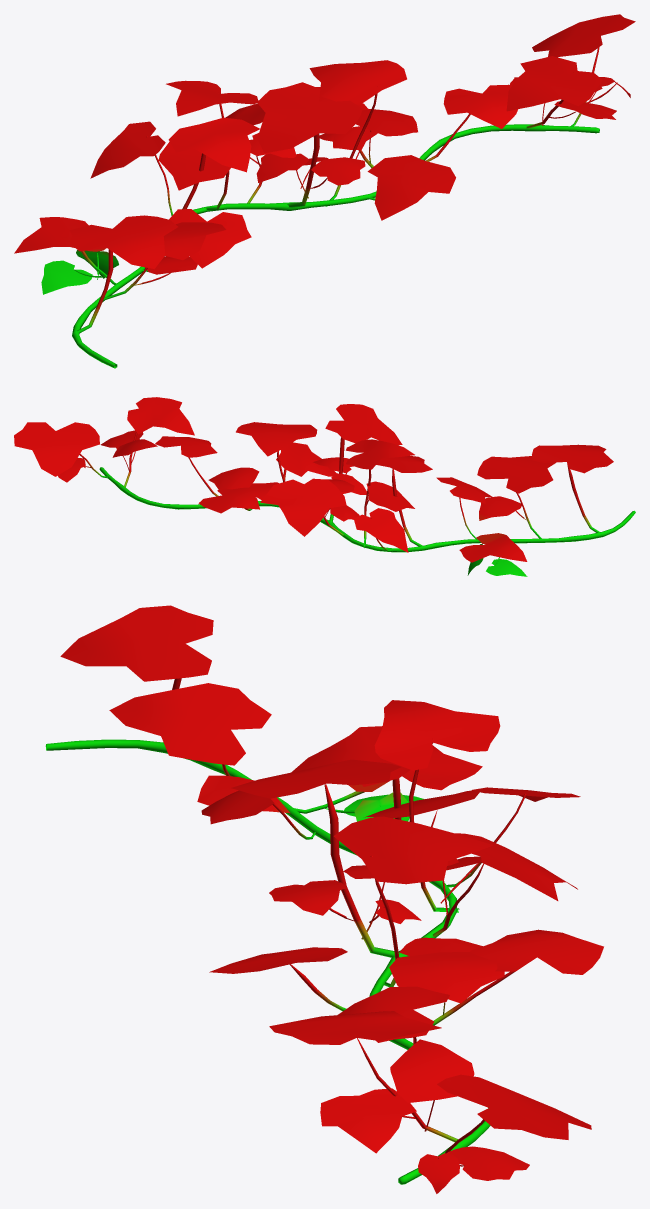
The model's file is Var5_LOD1.fbx.
The picture shows the model from 3 angles, top to bottom: view 1: azimuth 30°, elevation 25°; view 2: azimuth 150°, elevation 25°; view 3: azimuth 270°, elevation 25°; orthographic projection. The views are drawn at different scales.
Visible parts, largest first — view 1: _yv9v_Var5_LOD1; view 2: _yv9v_Var5_LOD1; view 3: _yv9v_Var5_LOD1.
Boxes of the visible parts, x1,y1,x2,y2 form: _yv9v_Var5_LOD1: (14,14,635,368); _yv9v_Var5_LOD1: (14,397,635,576); _yv9v_Var5_LOD1: (45,605,603,1193).
Size of the model in its own units: 63.18 by 13.41 by 30.47.
